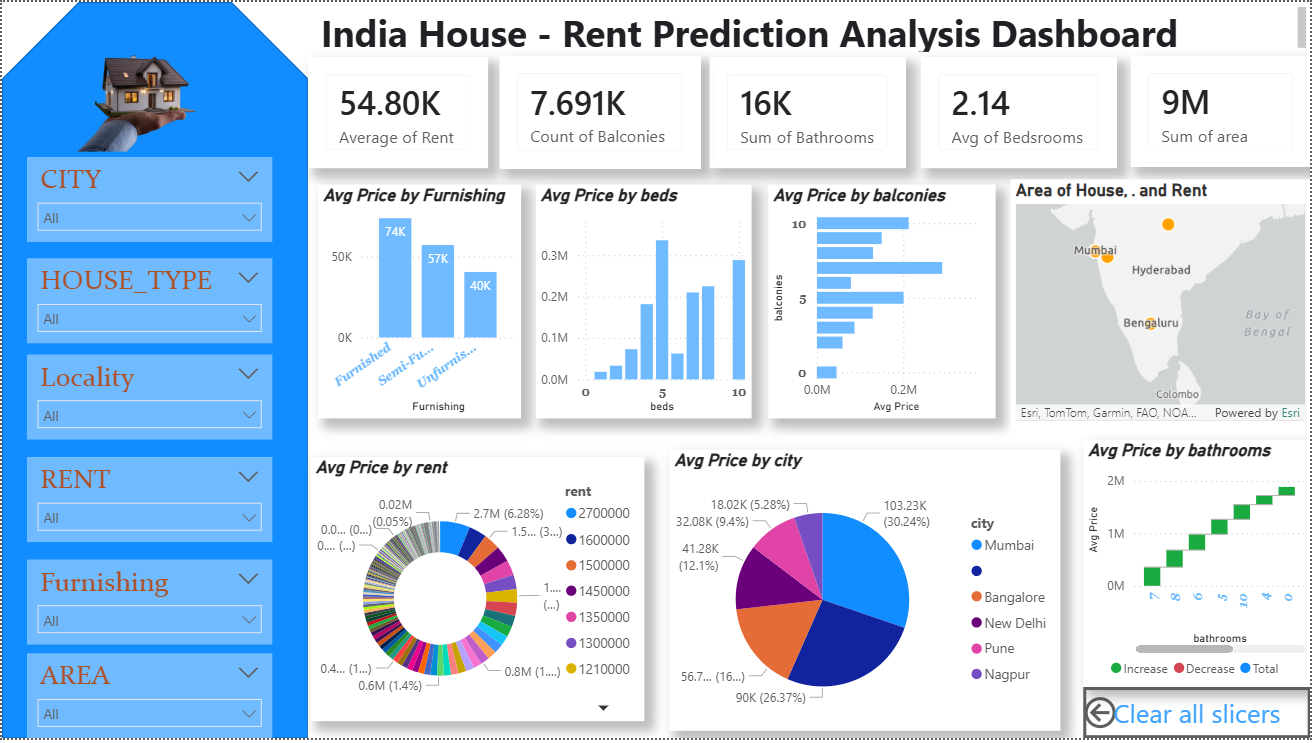

This screenshot's page, from the dashboard's own definition file:
{"tool":"powerbi","page":{"name":"Page 1","canvas":[1280,720],"ordinal":0},"visuals":[{"type":"textbox","box":[310.6,0,876.8,53.8],"z":0},{"type":"shape","box":[0,0,299.6,720.2],"z":1},{"type":"image","box":[51.4,0,225,162.6],"z":2},{"type":"cardVisual","fields":{"Data":["Indian house rent.Avg Price"]},"box":[299.6,53.8,176.1,108.8],"z":3},{"type":"slicer","fields":{"Values":["Indian house rent.city"]},"box":[24.5,151.6,239.7,83.2],"z":5},{"type":"cardVisual","fields":{"Data":["CountNonNull(Indian house rent.balconies)"]},"box":[486.7,52.6,196.9,110.1],"z":6},{"type":"cardVisual","fields":{"Data":["Sum(Indian house rent.bathrooms)"]},"box":[692.1,53.8,192,108.8],"z":7},{"type":"cardVisual","fields":{"Data":["Avg(Indian house rent.bathrooms)"]},"box":[898.8,53.8,192,108.8],"z":8},{"type":"cardVisual","fields":{"Data":["Sum(Indian house rent.area)"]},"box":[1104.2,52.6,176.1,108.8],"z":9},{"type":"slicer","fields":{"Values":["Indian house rent.house_type"]},"box":[24.5,250.7,239.7,83.2],"z":10},{"type":"slicer","fields":{"Values":["Indian house rent.locality"]},"box":[24.5,344.8,239.7,83.2],"z":11},{"type":"slicer","fields":{"Values":["Indian house rent.furnishing"]},"box":[24.5,545.4,239.7,83.2],"z":12},{"type":"slicer","fields":{"Values":["Indian house rent.rent"]},"box":[24.5,445.1,239.7,83.2],"z":13},{"type":"slicer","fields":{"Values":["Indian house rent.area"]},"box":[24.5,637.1,239.7,83.2],"z":14},{"type":"actionButton","box":[0,0,100,40],"z":16},{"type":"columnChart","fields":{"Category":["Indian house rent.furnishing"],"Y":["Indian house rent.Avg Price"]},"box":[309.4,178.5,198.1,228.7],"z":17},{"type":"clusteredColumnChart","fields":{"Category":["Indian house rent.beds"],"Y":["Indian house rent.Avg Price"]},"box":[522.1,178.5,211.6,228.7],"z":18},{"type":"barChart","fields":{"Category":["Indian house rent.balconies"],"Y":["Indian house rent.Avg Price"]},"box":[749.6,178.5,222.6,228.7],"z":19},{"type":"esriVisual","fields":{"Color":["Indian house rent.rent"],"Latitude":["Indian house rent.area"],"Location":["Indian house rent.city"]},"box":[986.8,178.5,293.5,240.9],"z":20},{"type":"waterfallChart","fields":{"Category":["Indian house rent.bathrooms"],"Y":["Indian house rent.Avg Price"]},"box":[1057.8,428,222.6,242.1],"z":21},{"type":"donutChart","fields":{"Category":["Indian house rent.rent"],"Y":["Indian house rent.Avg Price"]},"box":[302,445.1,326.5,258],"z":22},{"type":"pieChart","fields":{"Y":["Indian house rent.Avg Price"],"Category":["Indian house rent.city"]},"box":[653,437.8,382.7,275.1],"z":23},{"type":"actionButton","box":[1057.8,670.1,222.6,50.1],"z":24}]}

Visuals, with their boxes in screenshot pixels (x1, y1, x2, y2), scaled from the page's 1280x720 canvas onto the 1312x743 screenshot:
textbox: pyautogui.locateOnScreen(318, 0, 1217, 56)
shape: pyautogui.locateOnScreen(0, 0, 307, 742)
image: pyautogui.locateOnScreen(53, 0, 283, 168)
cardVisual - Indian house rent.Avg Price: pyautogui.locateOnScreen(307, 56, 488, 168)
slicer - Indian house rent.city: pyautogui.locateOnScreen(25, 156, 271, 242)
cardVisual - CountNonNull(Indian house rent.balconies): pyautogui.locateOnScreen(499, 54, 701, 168)
cardVisual - Sum(Indian house rent.bathrooms): pyautogui.locateOnScreen(709, 56, 906, 168)
cardVisual - Avg(Indian house rent.bathrooms): pyautogui.locateOnScreen(921, 56, 1118, 168)
cardVisual - Sum(Indian house rent.area): pyautogui.locateOnScreen(1132, 54, 1311, 167)
slicer - Indian house rent.house_type: pyautogui.locateOnScreen(25, 259, 271, 345)
slicer - Indian house rent.locality: pyautogui.locateOnScreen(25, 356, 271, 442)
slicer - Indian house rent.furnishing: pyautogui.locateOnScreen(25, 563, 271, 649)
slicer - Indian house rent.rent: pyautogui.locateOnScreen(25, 459, 271, 545)
slicer - Indian house rent.area: pyautogui.locateOnScreen(25, 657, 271, 742)
actionButton: pyautogui.locateOnScreen(0, 0, 102, 41)
columnChart - Indian house rent.furnishing x Indian house rent.Avg Price: pyautogui.locateOnScreen(317, 184, 520, 420)
clusteredColumnChart - Indian house rent.beds x Indian house rent.Avg Price: pyautogui.locateOnScreen(535, 184, 752, 420)
barChart - Indian house rent.balconies x Indian house rent.Avg Price: pyautogui.locateOnScreen(768, 184, 997, 420)
esriVisual - Indian house rent.rent x Indian house rent.area: pyautogui.locateOnScreen(1011, 184, 1311, 433)
waterfallChart - Indian house rent.bathrooms x Indian house rent.Avg Price: pyautogui.locateOnScreen(1084, 442, 1311, 692)
donutChart - Indian house rent.rent x Indian house rent.Avg Price: pyautogui.locateOnScreen(310, 459, 644, 726)
pieChart - Indian house rent.Avg Price x Indian house rent.city: pyautogui.locateOnScreen(669, 452, 1062, 736)
actionButton: pyautogui.locateOnScreen(1084, 692, 1311, 742)
